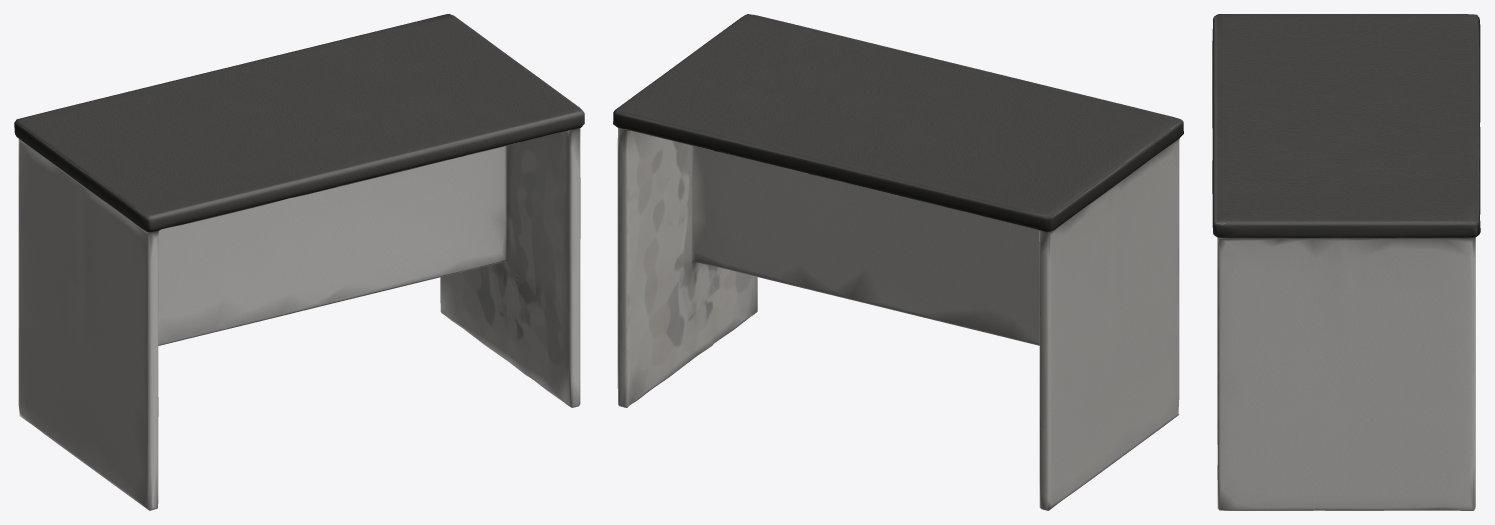
File: Table.fbx
3 renders of one model, left to right at view 1: azimuth 30°, elevation 25°; view 2: azimuth 150°, elevation 25°; view 3: azimuth 270°, elevation 25°, orthographic. The views are drawn at different scales.
Visible parts, largest first — view 1: material_0; view 2: material_0; view 3: material_0.
Boxes of the visible parts, bbox=[...] form: material_0: bbox=[14, 14, 584, 510]; material_0: bbox=[613, 14, 1183, 510]; material_0: bbox=[1212, 14, 1480, 510].
Size of the model in its own units: 100 by 64.52 by 53.89.
1 material, 1 textured.
